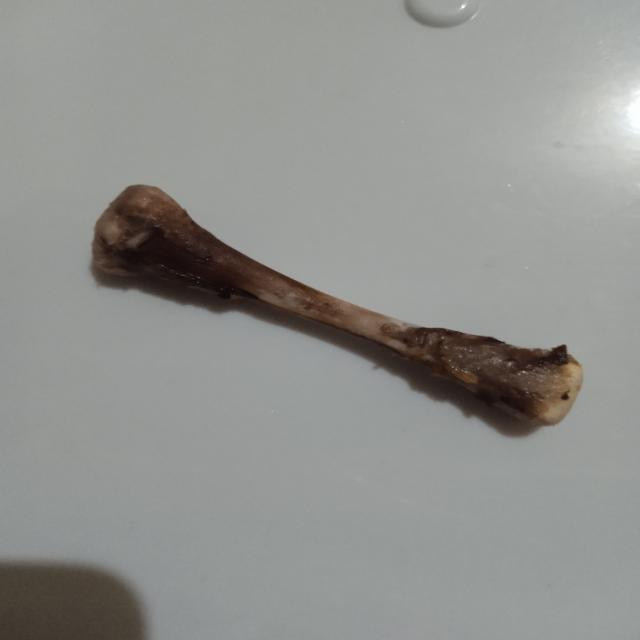bone: (76, 176, 594, 440)
